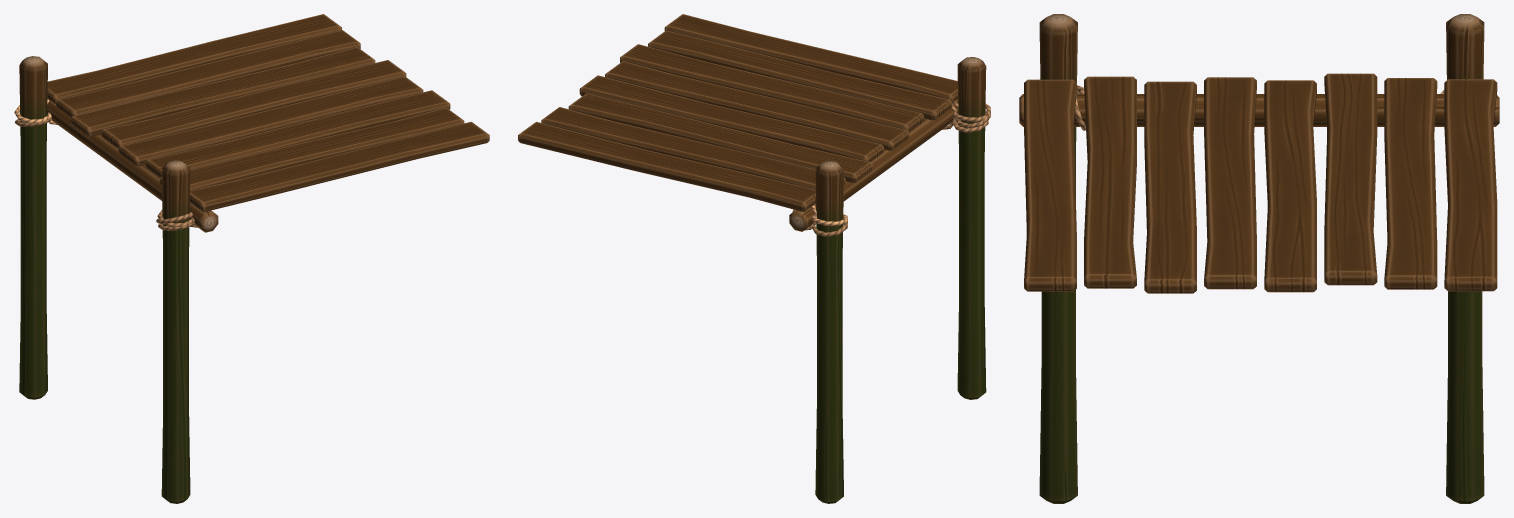
Rendered from Left.1.fbx.
3 renders of one model, left to right at view 1: azimuth 30°, elevation 25°; view 2: azimuth 150°, elevation 25°; view 3: azimuth 270°, elevation 25°, orthographic. The views are drawn at different scales.
Parts seen in each view (by area): view 1: Left.1; view 2: Left.1; view 3: Left.1.
Part boxes in pixels (x1=…): Left.1: x1=14, y1=14, x2=489, y2=503; Left.1: x1=518, y1=14, x2=990, y2=503; Left.1: x1=1019, y1=14, x2=1499, y2=503.
Size of the model in its own units: 222 by 220 by 200.
